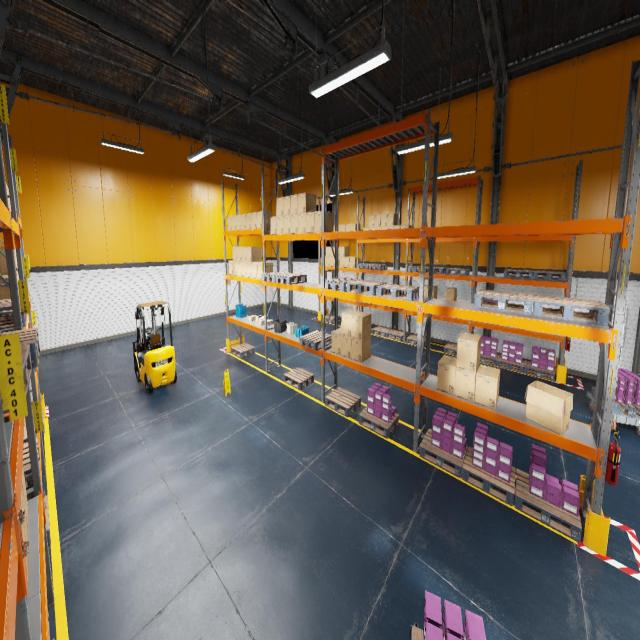box: (525, 380, 573, 435), (474, 364, 500, 409), (456, 332, 482, 372), (455, 364, 479, 402), (437, 354, 456, 395), (20, 504, 28, 588), (351, 312, 371, 339), (351, 335, 371, 362), (0, 246, 18, 275), (21, 482, 28, 556), (341, 310, 359, 337), (22, 463, 28, 530), (315, 211, 333, 232), (298, 193, 316, 213), (2, 275, 19, 296), (256, 211, 272, 228), (331, 328, 341, 355), (257, 262, 273, 278), (246, 246, 262, 262), (341, 334, 351, 359), (0, 277, 11, 299), (252, 261, 266, 278), (306, 211, 314, 233), (298, 213, 306, 233), (290, 194, 298, 214), (290, 214, 298, 233), (445, 288, 457, 300), (283, 196, 290, 215), (276, 197, 283, 216), (427, 286, 438, 298), (387, 213, 397, 226), (270, 216, 277, 234), (284, 215, 290, 234), (277, 216, 283, 234), (419, 285, 428, 297), (350, 256, 359, 268), (240, 214, 246, 229), (246, 262, 252, 277), (340, 246, 349, 256), (251, 212, 256, 229), (15, 246, 18, 273), (246, 212, 251, 228), (236, 214, 241, 230), (7, 184, 10, 210), (374, 214, 380, 227), (6, 183, 9, 208), (381, 214, 387, 226), (227, 216, 232, 230), (237, 262, 242, 276), (344, 257, 351, 267), (350, 223, 360, 230), (8, 188, 11, 211), (232, 247, 237, 260), (242, 261, 246, 277), (242, 246, 246, 262), (232, 215, 236, 230), (369, 215, 374, 227), (233, 261, 237, 275), (229, 260, 233, 274), (237, 247, 241, 260), (258, 314, 264, 322), (330, 257, 335, 266), (330, 247, 335, 256), (249, 314, 256, 320), (255, 315, 262, 321), (340, 256, 344, 266), (326, 257, 330, 266), (326, 247, 330, 256), (259, 318, 264, 325), (345, 224, 350, 231), (340, 224, 345, 231), (400, 225, 411, 228), (267, 320, 272, 326), (393, 225, 400, 228), (387, 226, 393, 229), (374, 227, 380, 230), (21, 479, 22, 496), (363, 227, 368, 230), (338, 225, 340, 231), (338, 256, 339, 266), (325, 256, 326, 265), (338, 247, 339, 256), (20, 502, 21, 510), (18, 273, 19, 280), (9, 192, 10, 198), (18, 274, 18, 280), (334, 225, 334, 231)
forklift: (134, 300, 177, 393)
pallets: (514, 469, 582, 542), (461, 447, 516, 506), (533, 294, 610, 326), (419, 428, 468, 478), (0, 344, 32, 410), (0, 327, 40, 368), (474, 289, 533, 315), (591, 387, 640, 418), (358, 406, 398, 438), (325, 387, 361, 417), (23, 438, 40, 489), (0, 303, 26, 329), (377, 284, 419, 300), (284, 367, 314, 389), (524, 360, 555, 381), (299, 331, 331, 350), (346, 280, 386, 295), (0, 298, 27, 319), (496, 354, 524, 373), (325, 278, 359, 292), (23, 412, 37, 443), (275, 273, 307, 285), (231, 342, 254, 358), (533, 270, 566, 280), (44, 496, 50, 546), (504, 269, 533, 279), (262, 272, 290, 282), (406, 334, 426, 347), (386, 329, 407, 341), (480, 354, 498, 366), (372, 326, 391, 337), (444, 342, 457, 356), (425, 266, 447, 274), (446, 268, 469, 275), (412, 626, 423, 639), (408, 265, 427, 272), (47, 604, 50, 640), (357, 263, 375, 269), (369, 264, 387, 270), (325, 315, 338, 323), (475, 322, 500, 326), (41, 410, 45, 434), (388, 306, 402, 310), (34, 367, 37, 372)
